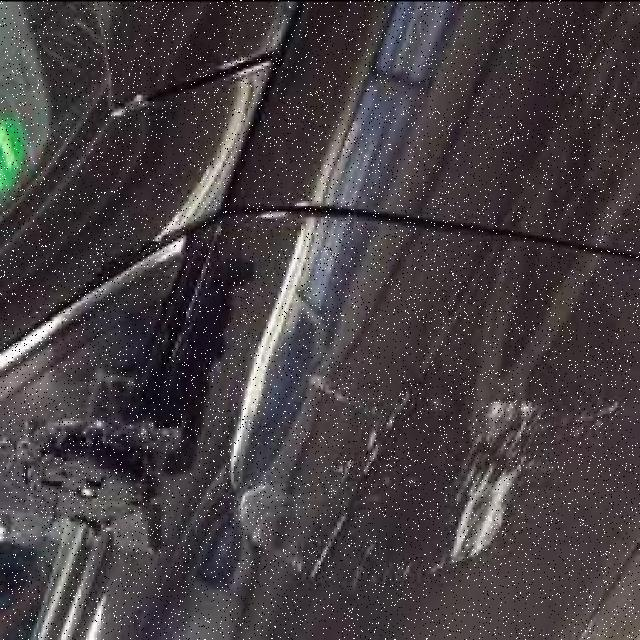damage: (232, 360, 611, 607), (7, 393, 186, 575)
